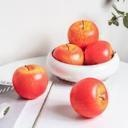apple: (84, 39, 113, 68)
